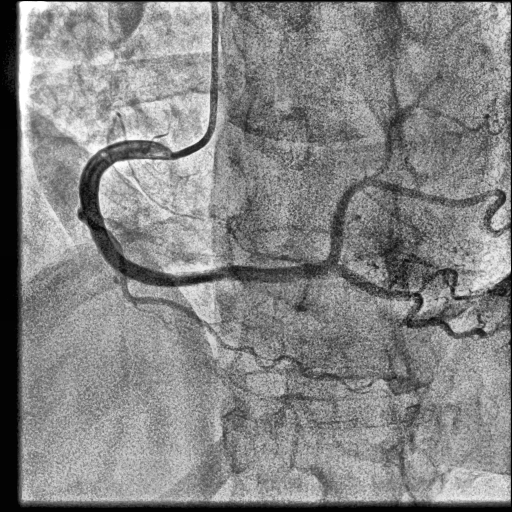pborca: (325, 177, 506, 267)
pda: (338, 267, 486, 338)
rca: (79, 139, 332, 287)
